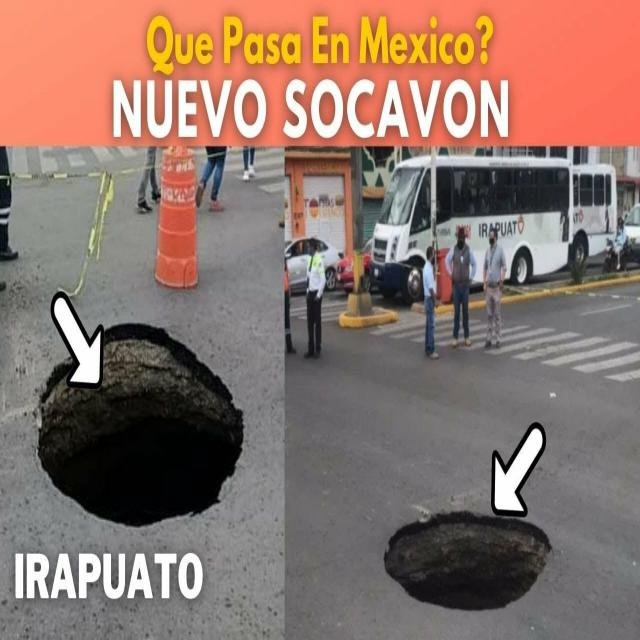Pothole: (8, 304, 274, 535), (354, 436, 584, 630)
